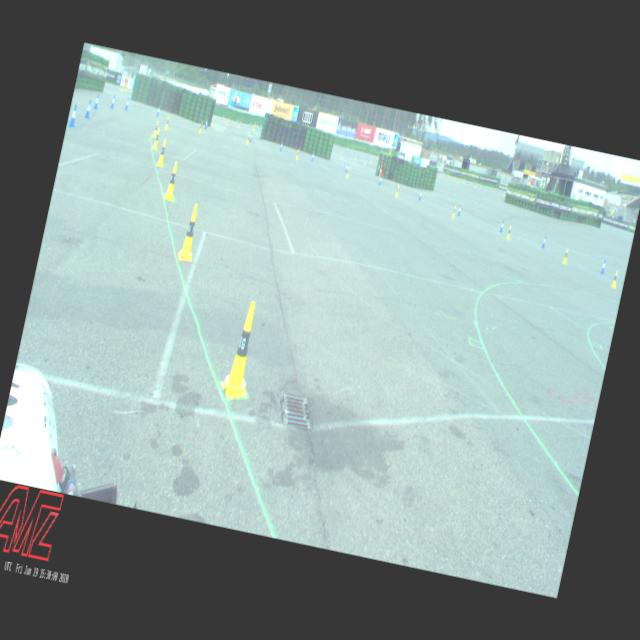blue_cone: (68, 103, 78, 127), (84, 98, 92, 118), (93, 94, 100, 109), (600, 258, 606, 274), (110, 94, 116, 108), (124, 97, 130, 110), (456, 204, 462, 216), (499, 220, 504, 232), (156, 105, 161, 116), (542, 235, 546, 248), (204, 118, 208, 129), (418, 189, 422, 200), (248, 132, 252, 142), (279, 141, 283, 151), (311, 152, 315, 162), (344, 162, 348, 172), (378, 175, 382, 185)
yellow_cone: (218, 298, 265, 402), (176, 202, 204, 262), (163, 160, 180, 200), (156, 138, 168, 166), (152, 128, 160, 150), (152, 119, 160, 137), (610, 270, 618, 288), (562, 248, 569, 264), (164, 116, 170, 130), (506, 225, 512, 239), (394, 184, 400, 197), (198, 120, 204, 132), (451, 205, 456, 218), (246, 132, 250, 144), (295, 148, 299, 160), (346, 166, 350, 178)
